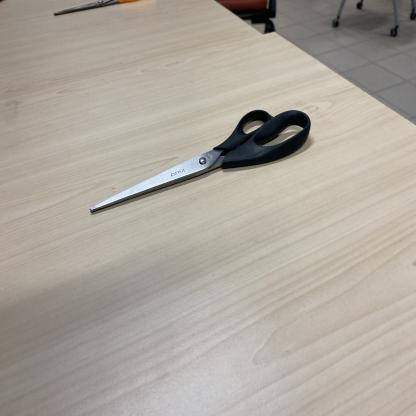scissors: (91, 110, 311, 214), (53, 0, 155, 17)
